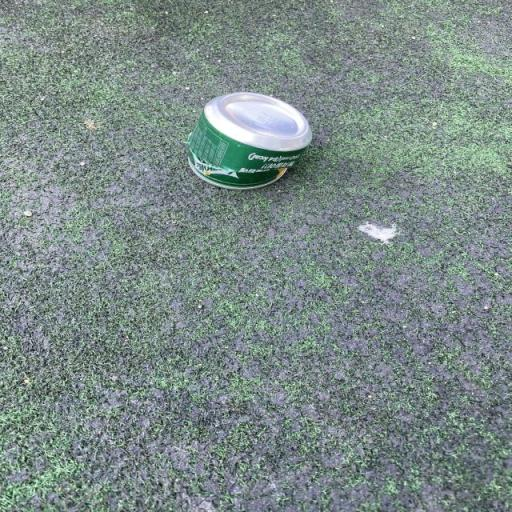metal: (176, 88, 314, 203)
